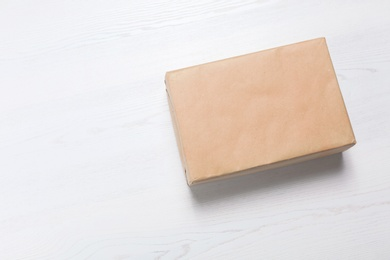Parcel: (166, 36, 357, 181)
